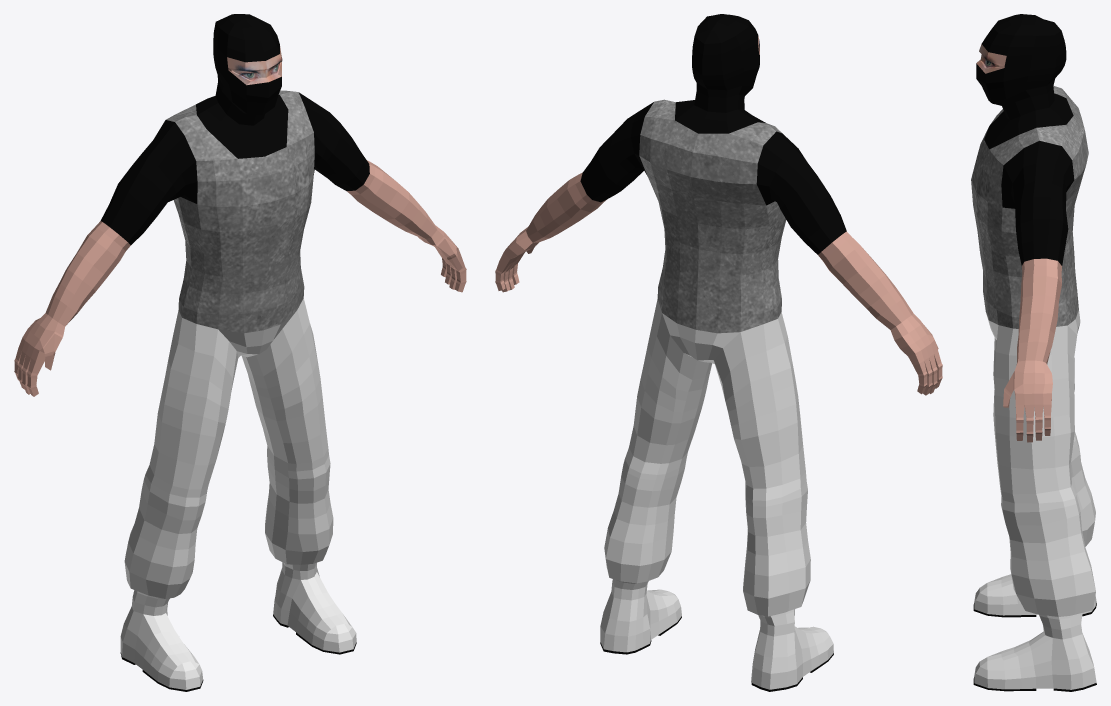
Rendered from 3.6VER_Udemys.fbx.
3 views of the same model, side by side, from view 1: azimuth 30°, elevation 25°; view 2: azimuth 150°, elevation 25°; view 3: azimuth 270°, elevation 25° (orthographic).
Visible parts, largest first — view 1: Bo2dy; view 2: Bo2dy; view 3: Bo2dy.
Part boxes in pixels (x1,y1,x2,y2): Bo2dy: (14,14,466,691); Bo2dy: (495,14,942,691); Bo2dy: (971,14,1096,691).
Size of the model in its own units: 114 by 158 by 28.82.
